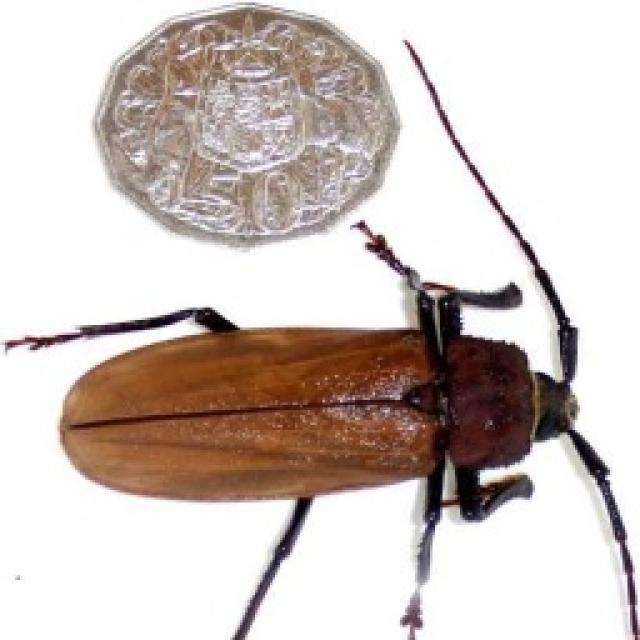cockroach: (0, 210, 613, 607)
